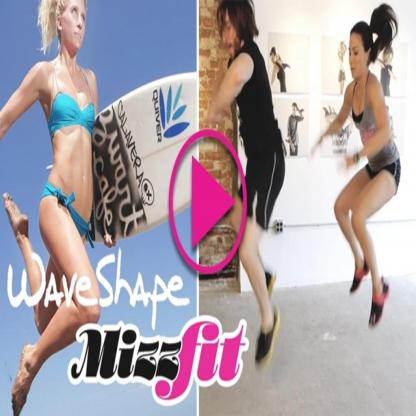face: (62, 1, 86, 51), (223, 10, 237, 59), (349, 36, 364, 79), (272, 54, 276, 64), (293, 106, 296, 115)
